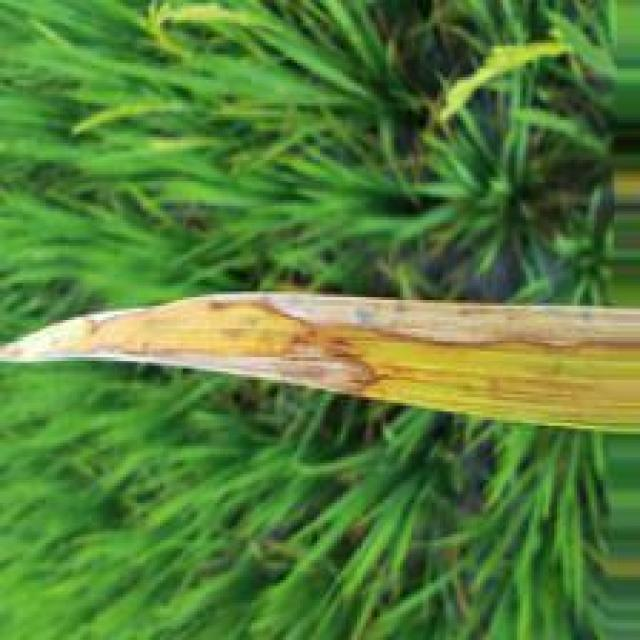Leaf_Scald: (0, 288, 640, 393)
